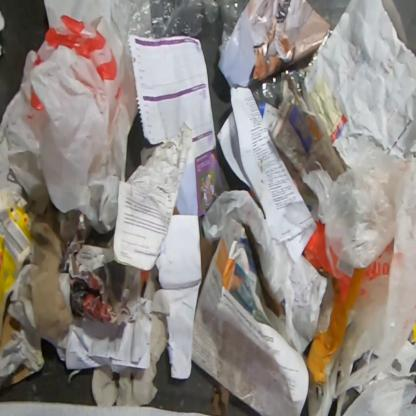cardboard: (0, 188, 37, 348)
soft_plastic: (0, 0, 140, 235), (299, 133, 415, 399), (111, 0, 245, 57), (251, 29, 334, 109)
